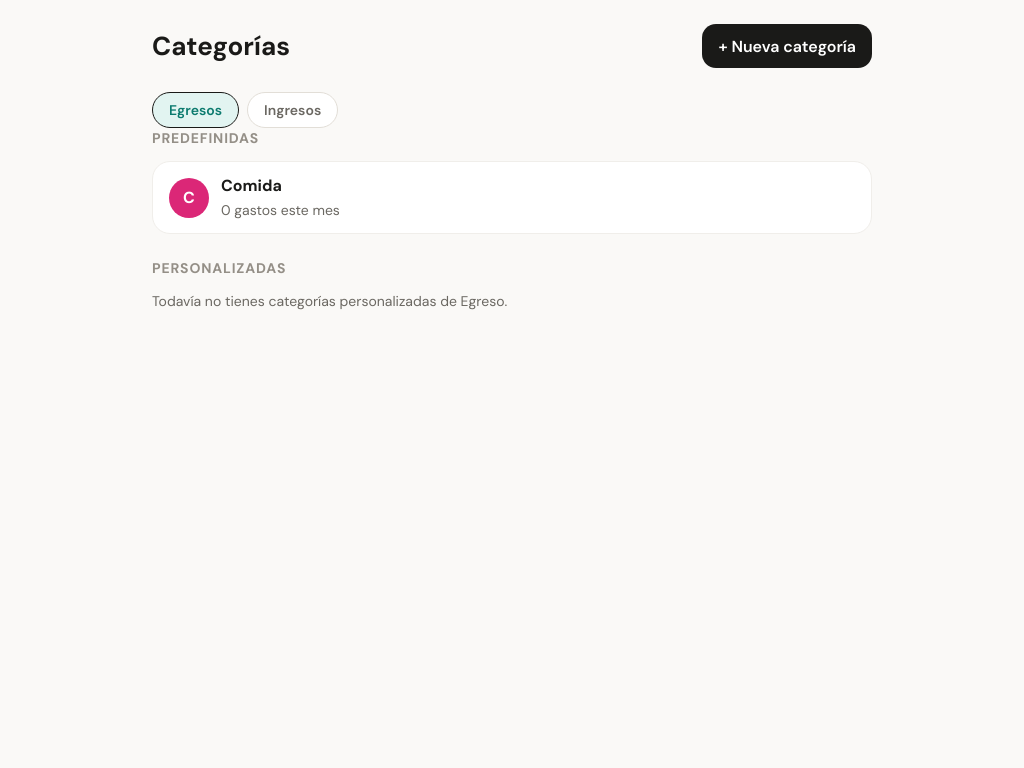
Test case: CategoriasView › Épica 12 — toggle Egresos/Ingresos (hueco reportado tras la Fase 2 "Caudal") › el mensaje de desactivar es coherente con el tipo de la categoría (menciona "ingresos" al desactivar una de tipo ingreso)
What coordinates should you click on to do the following:
click the tab with class "chip-tipo" showing "Ingresos"
I would click on:
 (293, 110)
Its box is x1=247 y1=92 x2=338 y2=128.
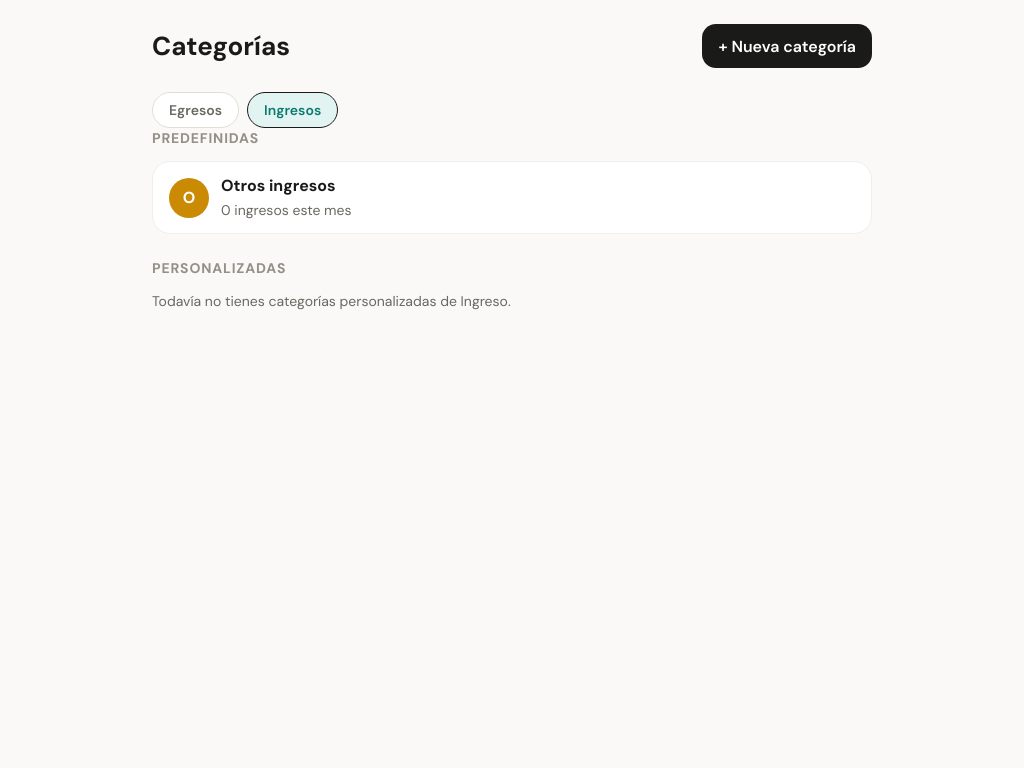
What coordinates should you click on to do the following:
click the list item with class "fila-categoria"
I would click on:
 (512, 198)
Its box is x1=152 y1=161 x2=872 y2=234.
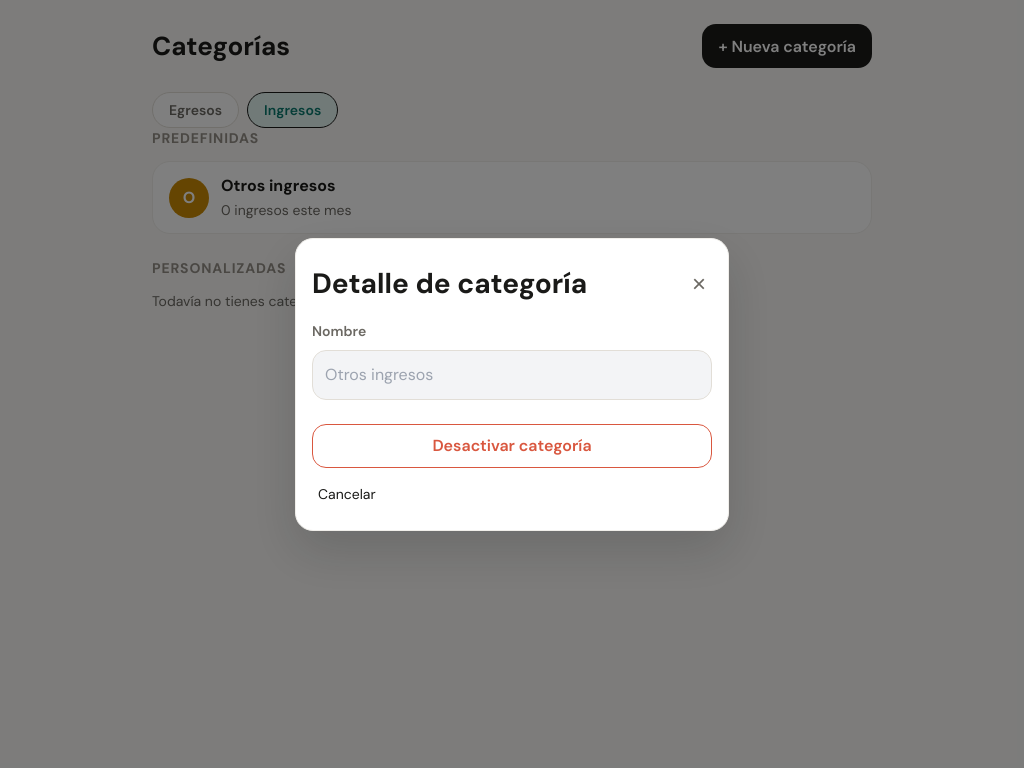
What coordinates should you click on to do the following:
click the button with class "boton-desactivar"
I would click on:
 (512, 446)
Its box is x1=312 y1=424 x2=712 y2=468.
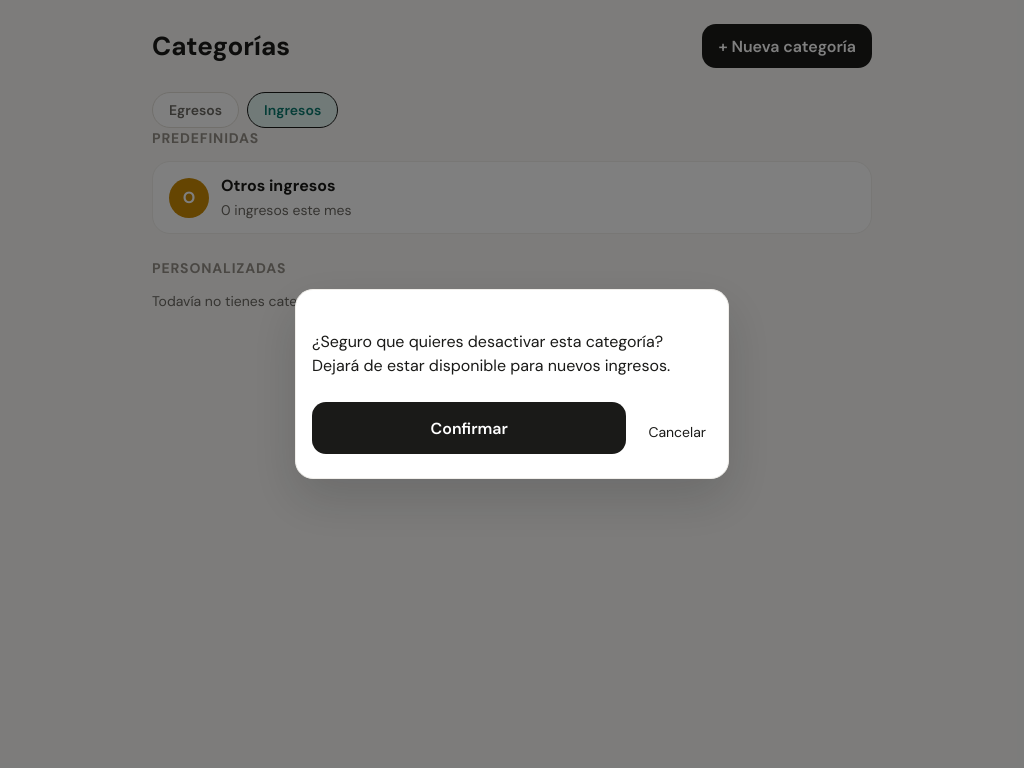
Result: the text "nuevos ingresos" is shown at x1=312 y1=331 x2=670 y2=376
